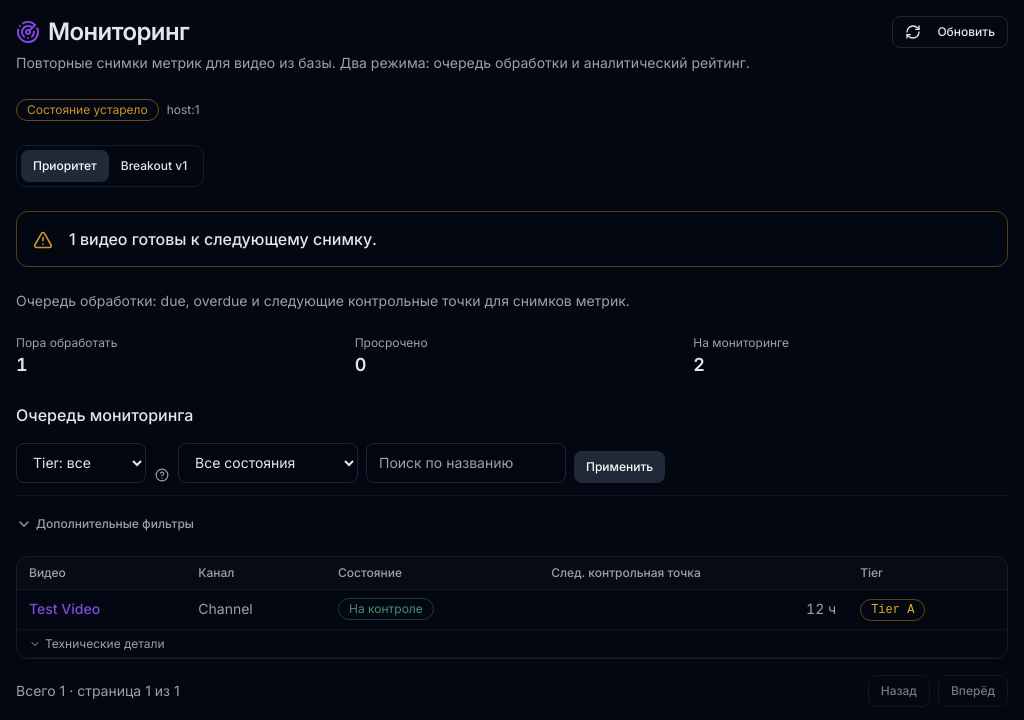
it: MonitoringDashboard › renders breakout human summary when mode switched
Click the tab with test id "monitoring-mode-breakout".
click(154, 166)  # box x1=109 y1=150 x2=199 y2=182
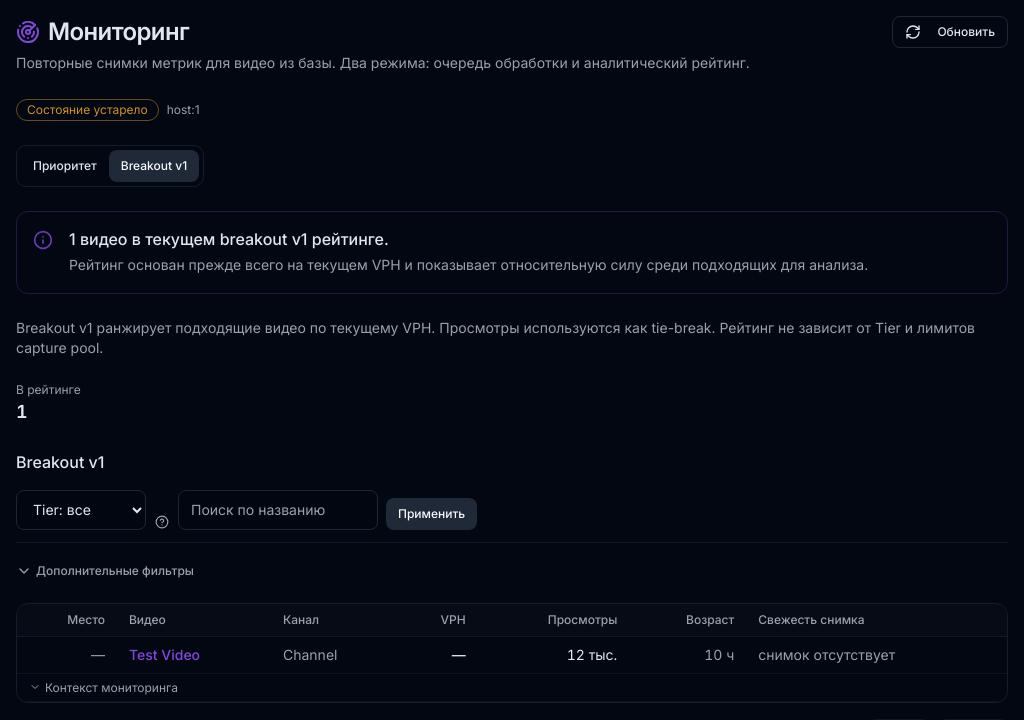
Now the text "1 видео в текущем breakout v1 рейтинге." is shown, box x1=69 y1=229 x2=389 y2=249
